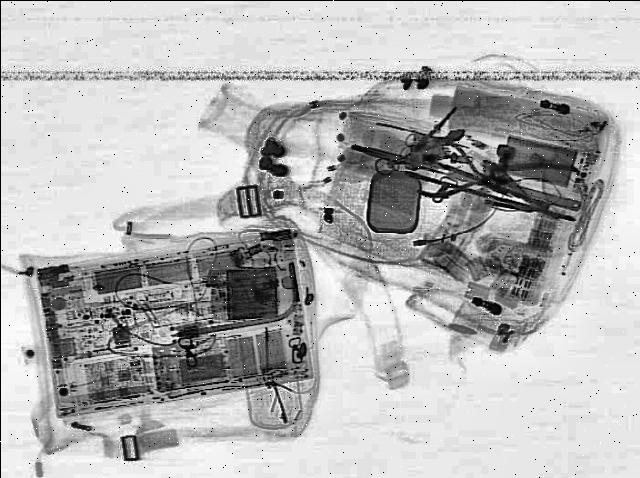Pliers: (467, 138, 608, 224), (412, 139, 522, 209)
